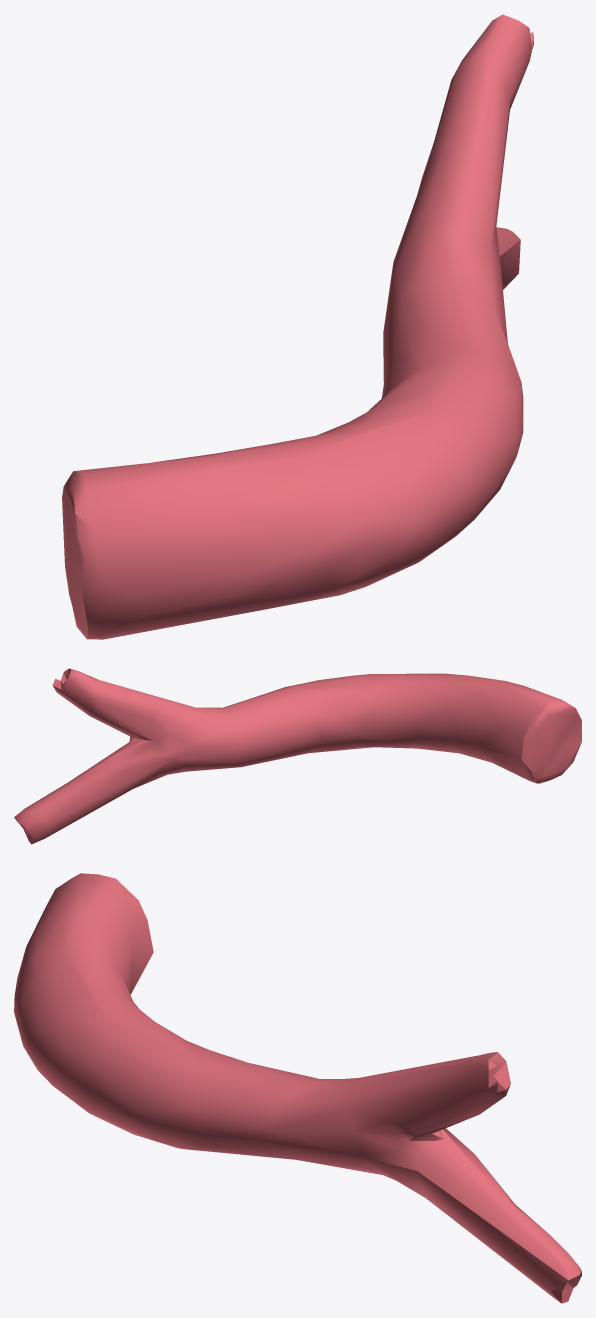
Rendered from fma14336.glb.
3 renders of one model, top to bottom at view 1: azimuth 30°, elevation 25°; view 2: azimuth 150°, elevation 25°; view 3: azimuth 270°, elevation 25°, orthographic. The views are drawn at different scales.
Visible parts, largest first — view 1: FMA14336; view 2: FMA14336; view 3: FMA14336.
Boxes of the visible parts, box(x1,y1,x2,y2) form: FMA14336: box(62, 14, 533, 639); FMA14336: box(14, 668, 581, 844); FMA14336: box(14, 873, 581, 1303).
Bounding box in the file's own units: 0.0634 × 0.0248 × 0.0538.
